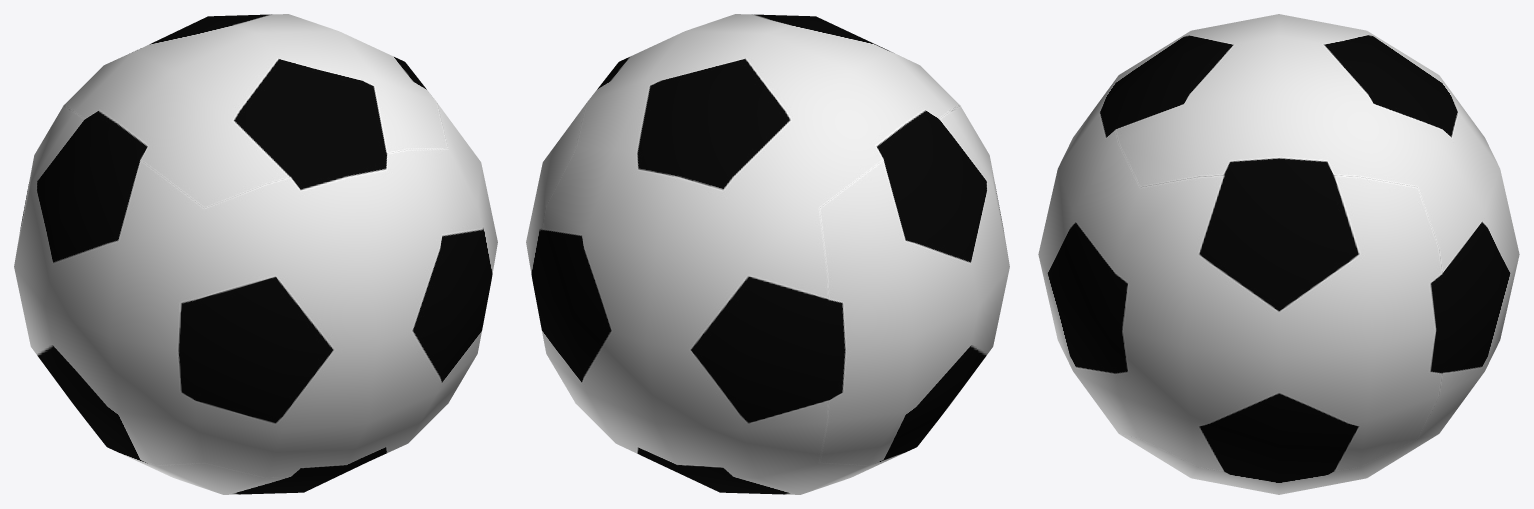
The model's file is SOCCER_Ball.FBX.
3 views of the same model, side by side, from view 1: azimuth 30°, elevation 25°; view 2: azimuth 150°, elevation 25°; view 3: azimuth 270°, elevation 25° (orthographic).
Visible parts, largest first — view 1: SOCCER_Ball; view 2: SOCCER_Ball; view 3: SOCCER_Ball.
Boxes of the visible parts, x1,y1,x2,y2 form: SOCCER_Ball: (14, 14, 497, 494); SOCCER_Ball: (526, 14, 1009, 494); SOCCER_Ball: (1038, 14, 1519, 494).
Bounding box in the file's own units: 23.13 × 23.13 × 23.13.
